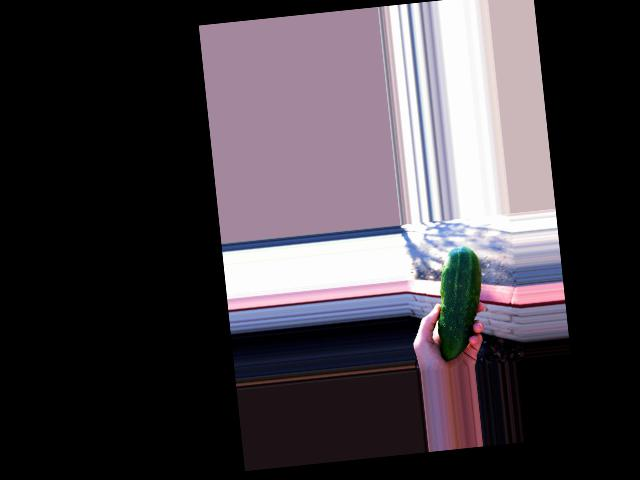cucumber: (430, 245, 490, 360)
